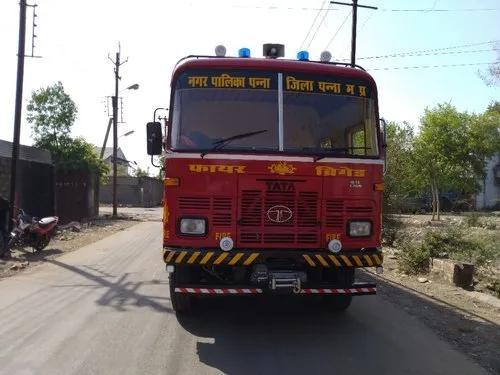Fire-engine: (145, 40, 387, 311), (312, 158, 371, 186), (186, 162, 246, 185), (262, 154, 304, 182), (237, 38, 255, 59), (298, 42, 312, 64)
